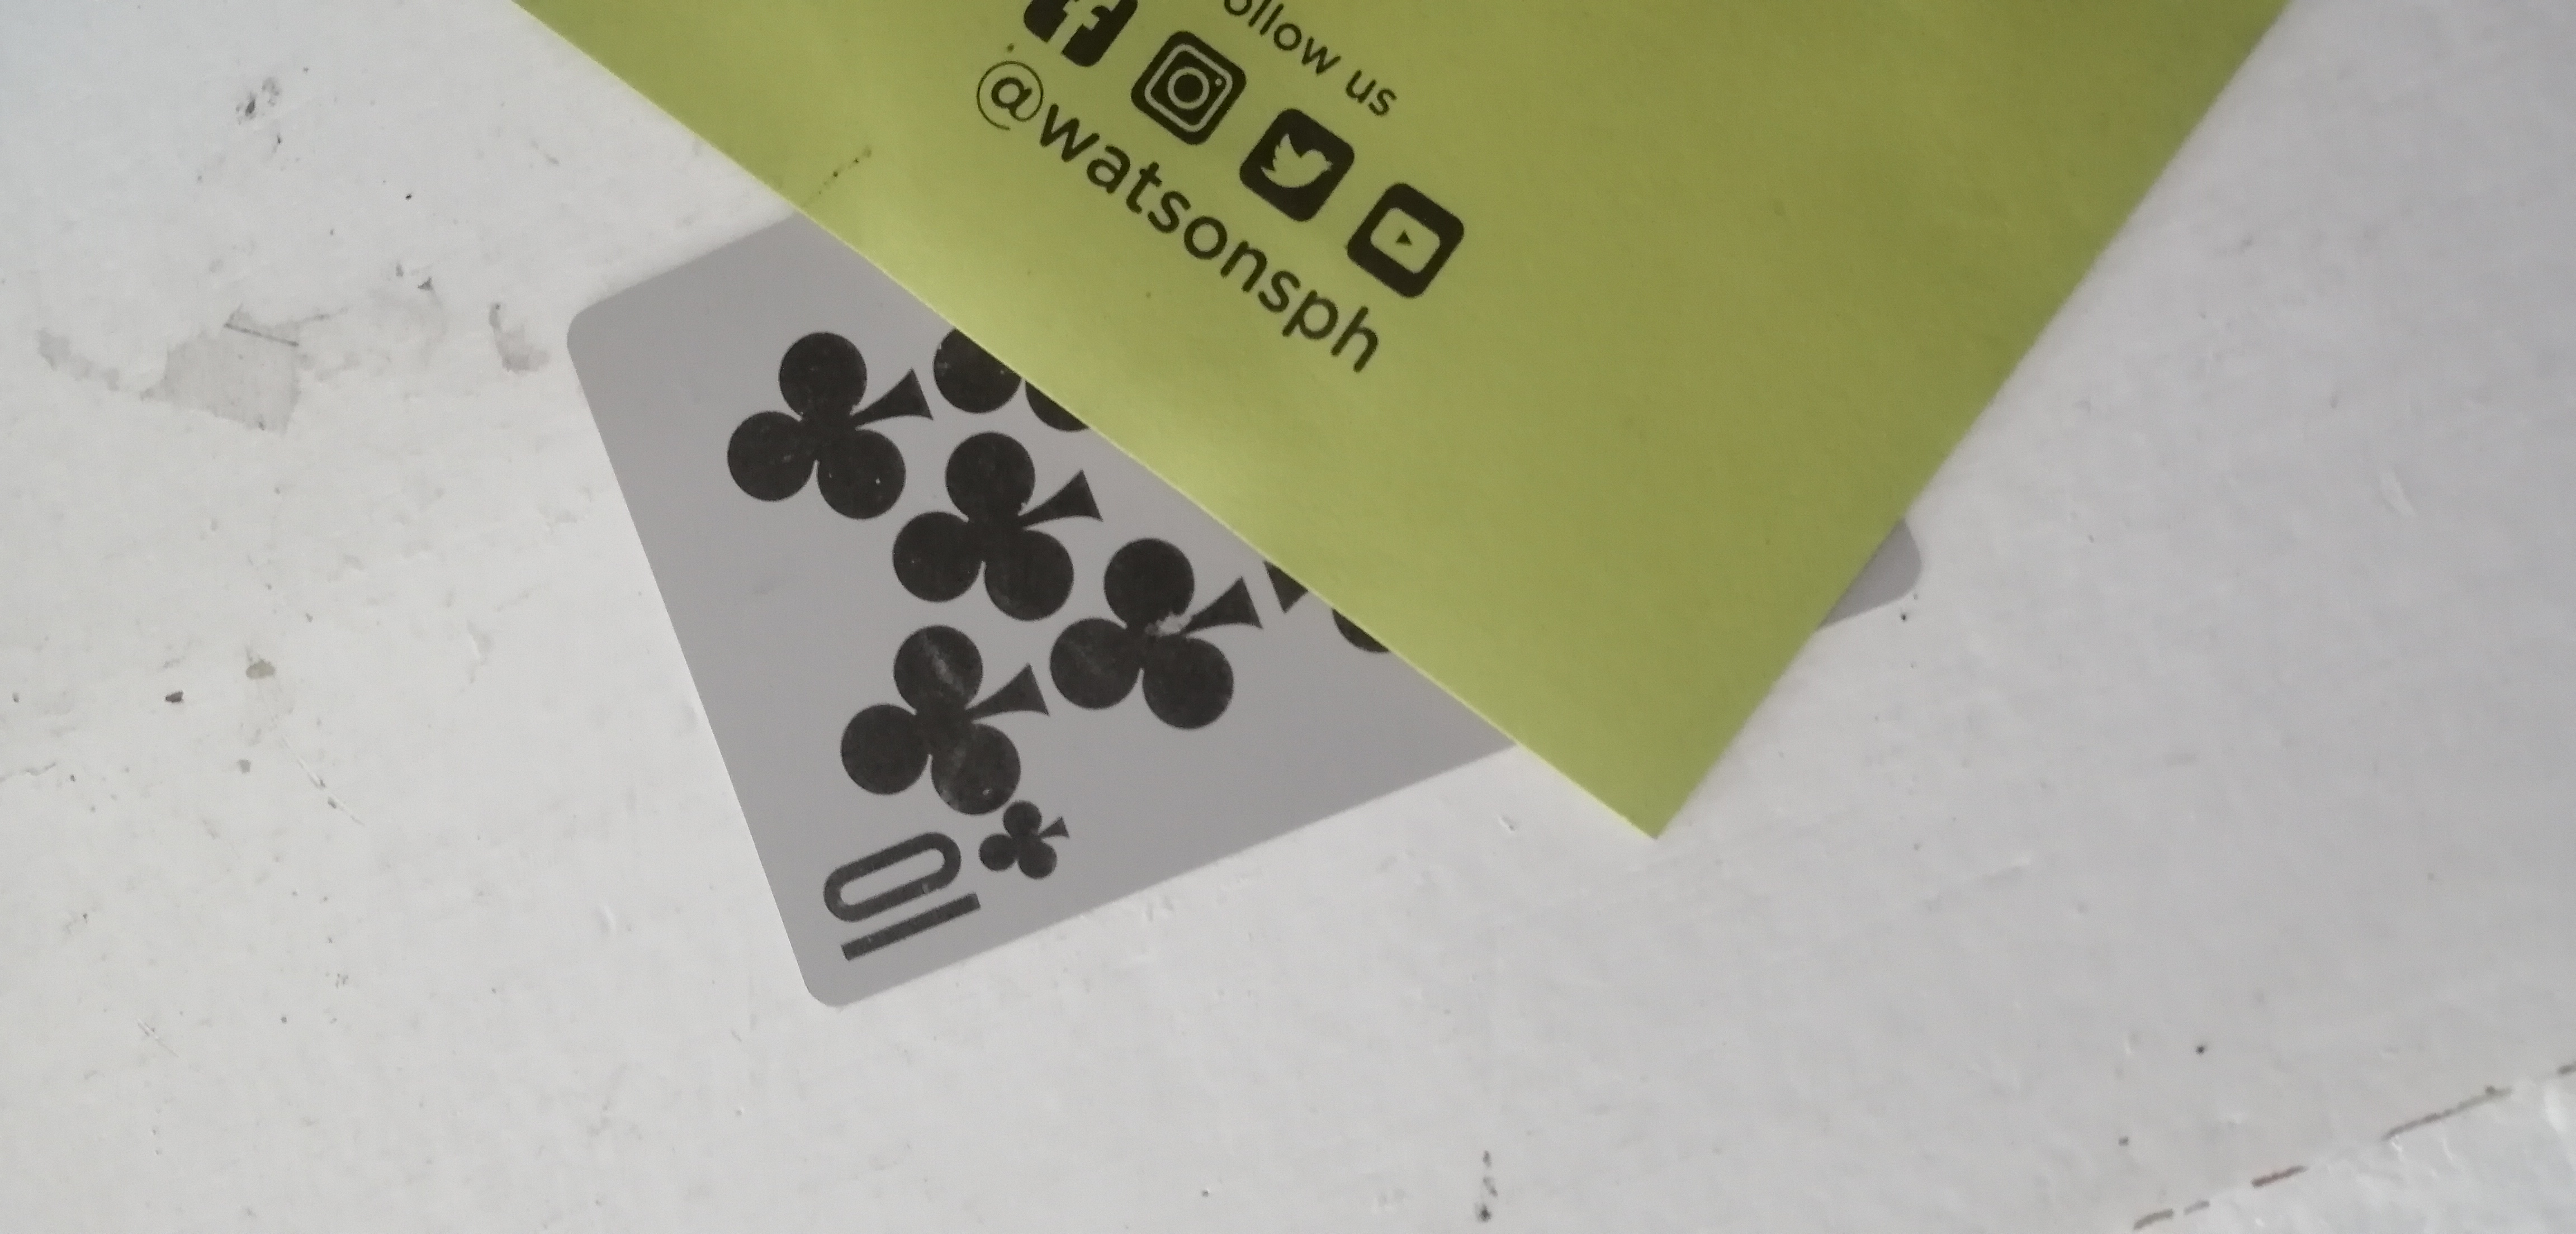ten: (491, 182, 1479, 976)
